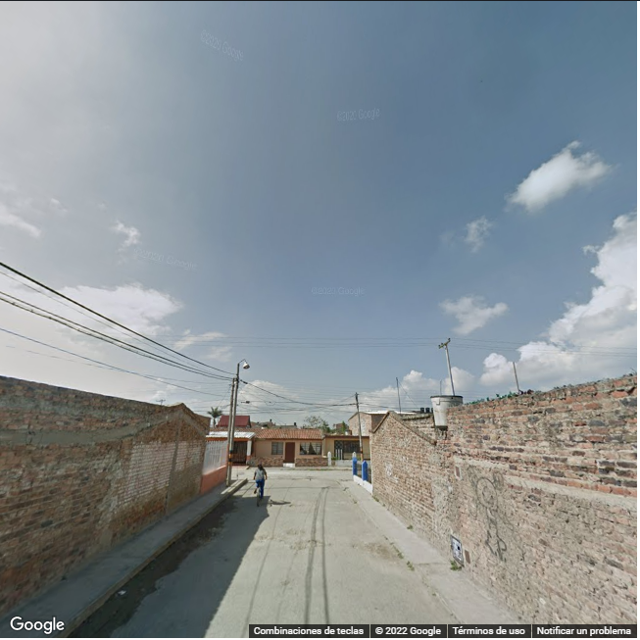D40: (357, 538, 407, 565), (288, 535, 336, 550)
